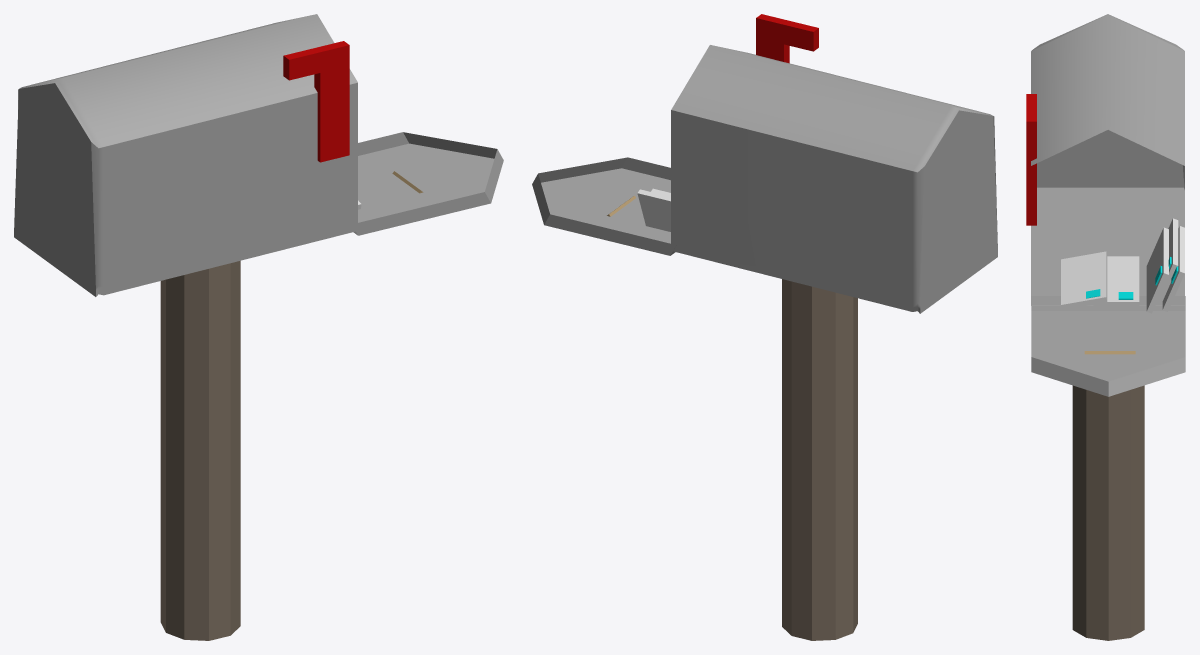
File: MailboxwMail.fbx
The picture shows the model from 3 angles, left to right: view 1: azimuth 30°, elevation 25°; view 2: azimuth 150°, elevation 25°; view 3: azimuth 270°, elevation 25°; orthographic projection. The views are drawn at different scales.
Visible parts, largest first — view 1: polySurface17; view 2: polySurface17; view 3: polySurface17.
Part boxes in pixels (x1,y1,x2,y2): polySurface17: [14, 14, 503, 640]; polySurface17: [532, 14, 997, 640]; polySurface17: [1026, 14, 1185, 640].
Size of the model in its own units: 1.96 by 2.45 by 0.6403.
